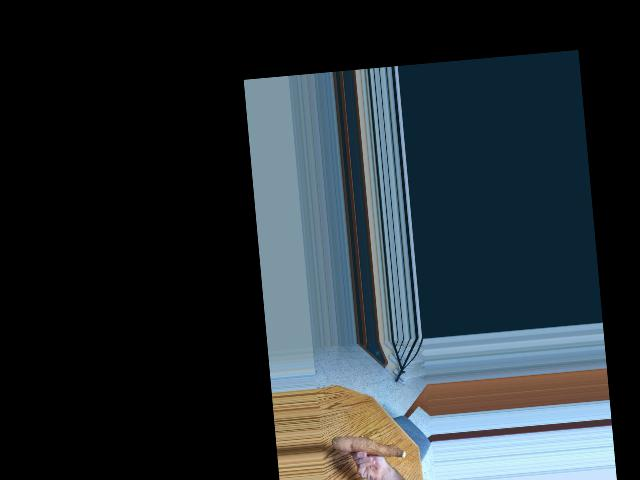sweet_potato: (333, 428, 407, 467)
